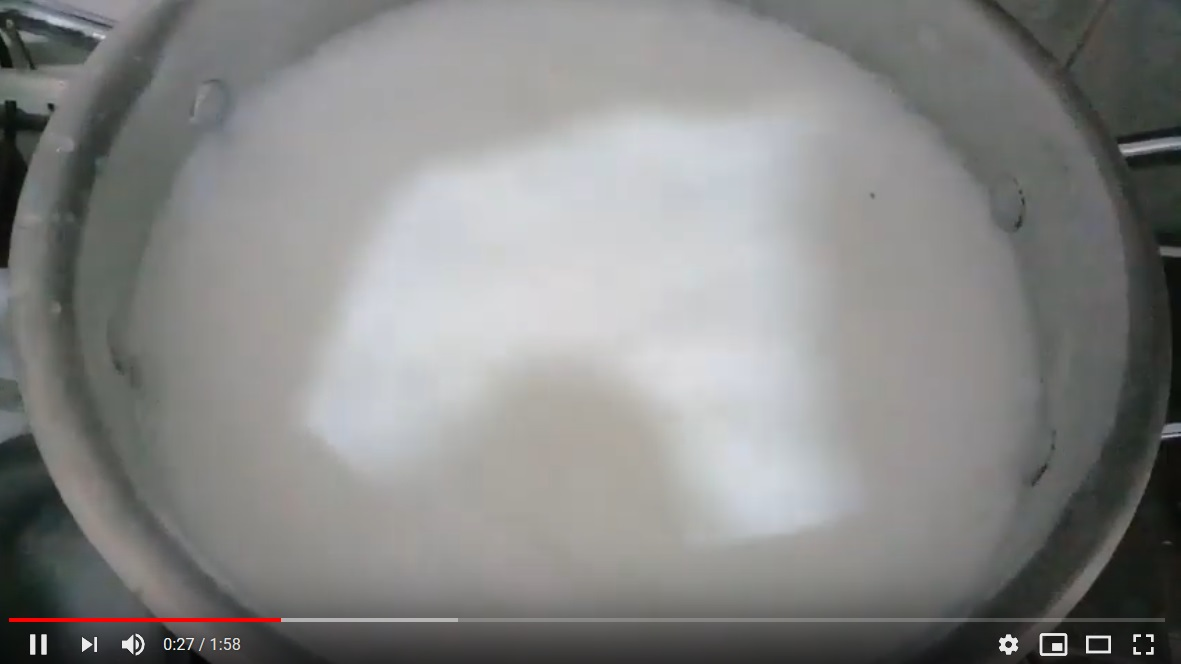Boiled: (130, 2, 1067, 616)
